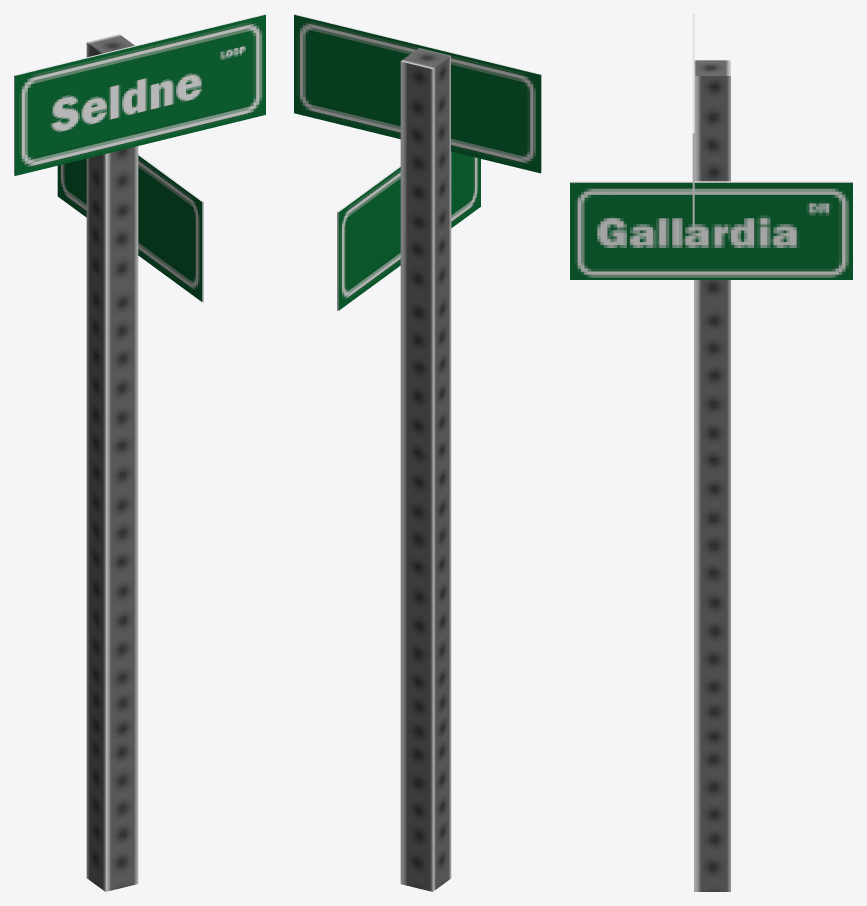
The model's file is Road Sign 2.glb.
The picture shows the model from 3 angles, left to right: view 1: azimuth 30°, elevation 25°; view 2: azimuth 150°, elevation 25°; view 3: azimuth 270°, elevation 25°; orthographic projection. The views are drawn at different scales.
Parts seen in each view (by area): view 1: Cube; view 2: Cube; view 3: Cube.
Boxes of the visible parts, x1=… form: Cube: x1=14, y1=14, x2=265, y2=891; Cube: x1=294, y1=14, x2=541, y2=891; Cube: x1=570, y1=14, x2=852, y2=891.
Size of the model in its own units: 0.4938 by 1.58 by 0.4938.
Materials: 1 (1 with a texture image).
